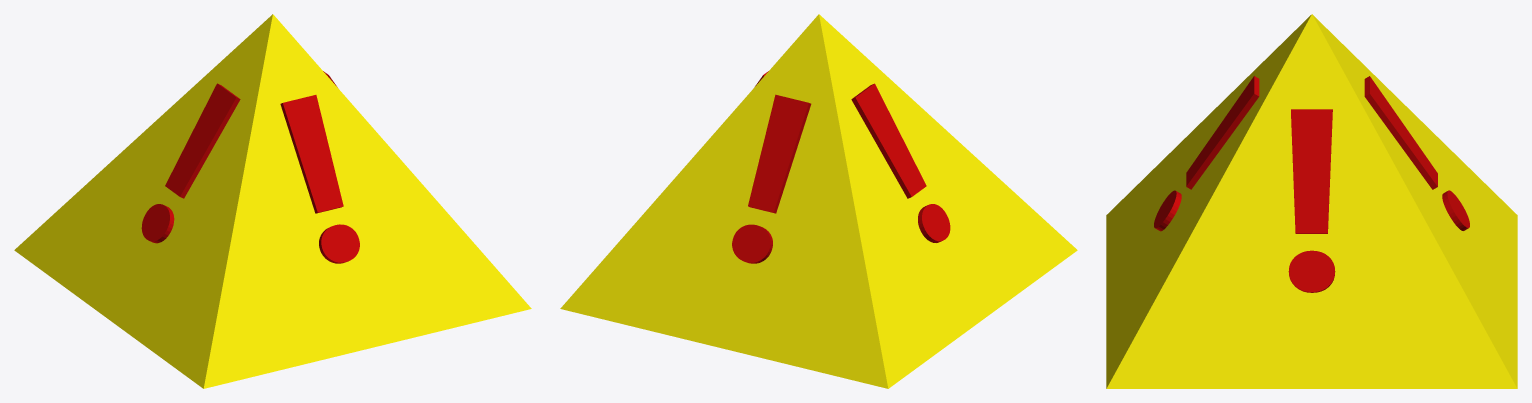
File: error_pyramid.obj
3 views of the same model, side by side, from view 1: azimuth 30°, elevation 25°; view 2: azimuth 150°, elevation 25°; view 3: azimuth 270°, elevation 25° (orthographic). The views are drawn at different scales.
Visible parts, largest first — view 1: Object.1; view 2: Object.1; view 3: Object.1.
Part boxes in pixels (x1,y1,x2,y2): Object.1: (14, 14, 531, 388); Object.1: (560, 14, 1077, 388); Object.1: (1106, 14, 1517, 388).
Size of the model in its own units: 4 by 3.09 by 4.
